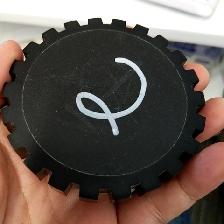gear: (1, 16, 206, 204)
